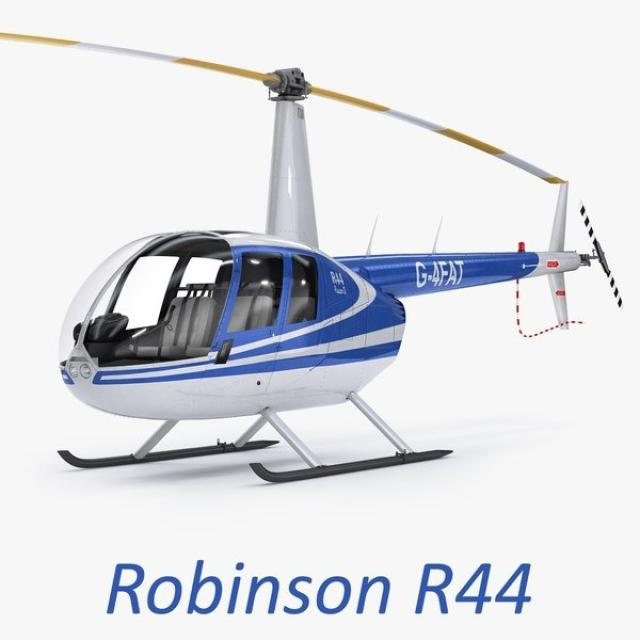CIV_HELO: (50, 66, 634, 490)
